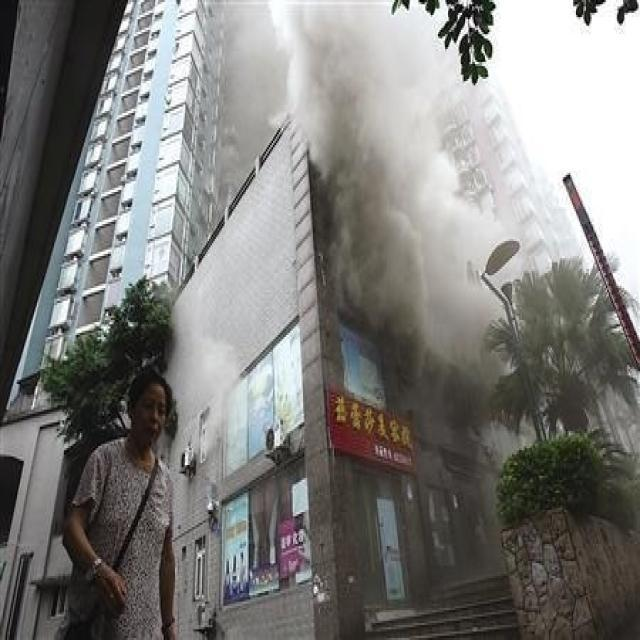Smoke: (222, 2, 526, 397)
